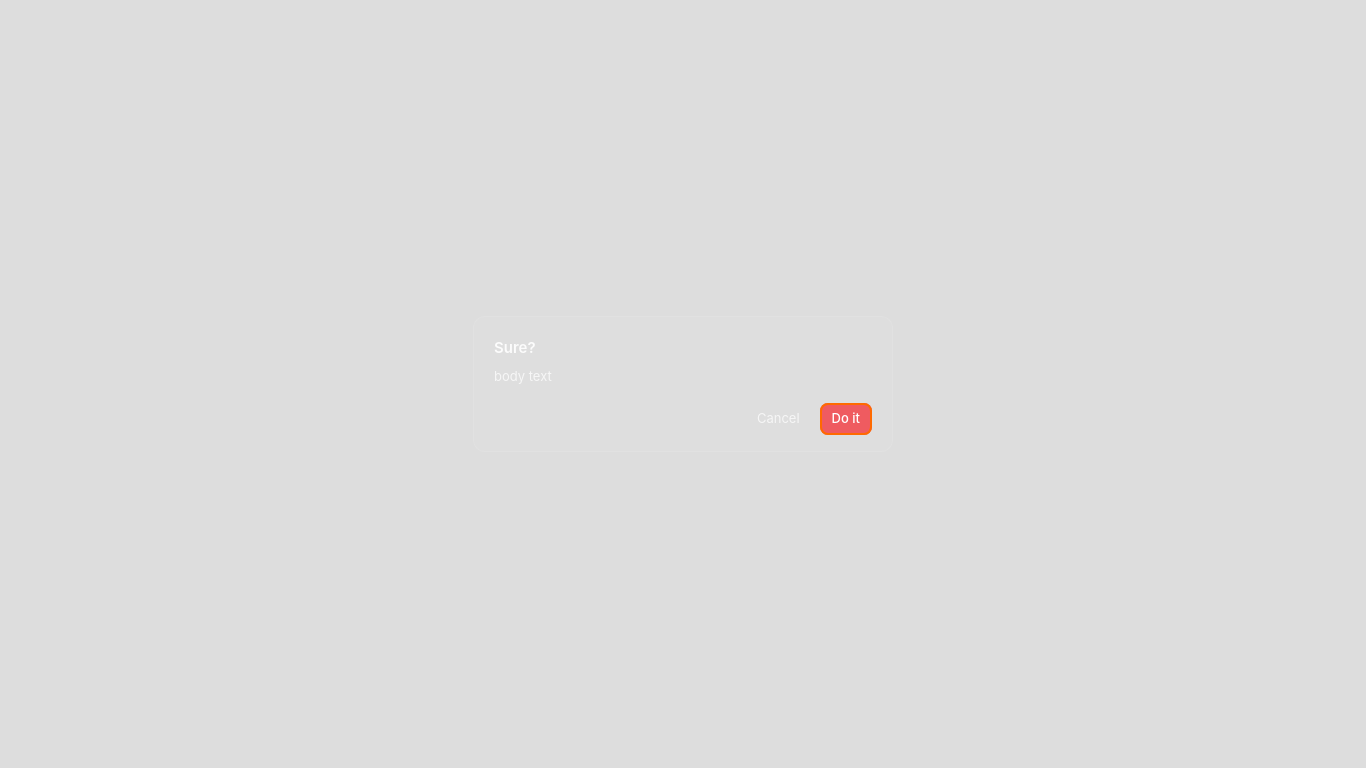
Test case: ConfirmDialog › an error stays in the dialog and allows a retry
Later steps or results of the test are not shown.
Click the button "Do it" at (846, 419), box [820, 403, 872, 435]
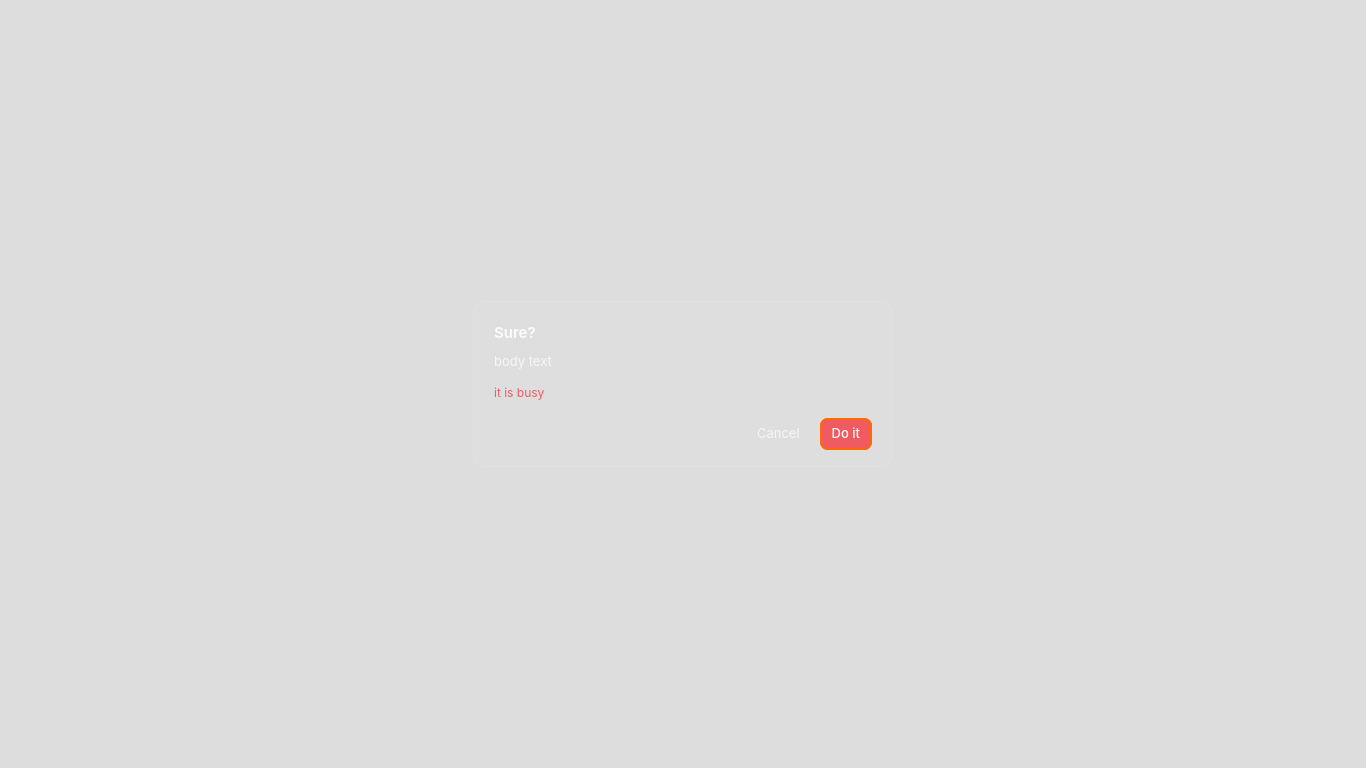
Expected: the message "it is busy" is shown, [494, 385, 544, 400]
